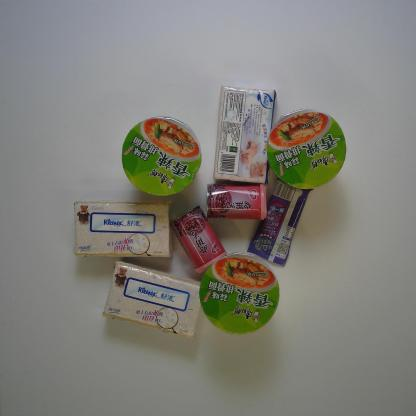Candy: (244, 174, 315, 265)
Canned Food: (168, 204, 232, 278), (205, 181, 269, 223)
Instant Noodles: (264, 106, 348, 191), (119, 116, 204, 198), (198, 252, 282, 334)
Tissue: (99, 260, 211, 340), (212, 84, 278, 186), (73, 196, 174, 259)
